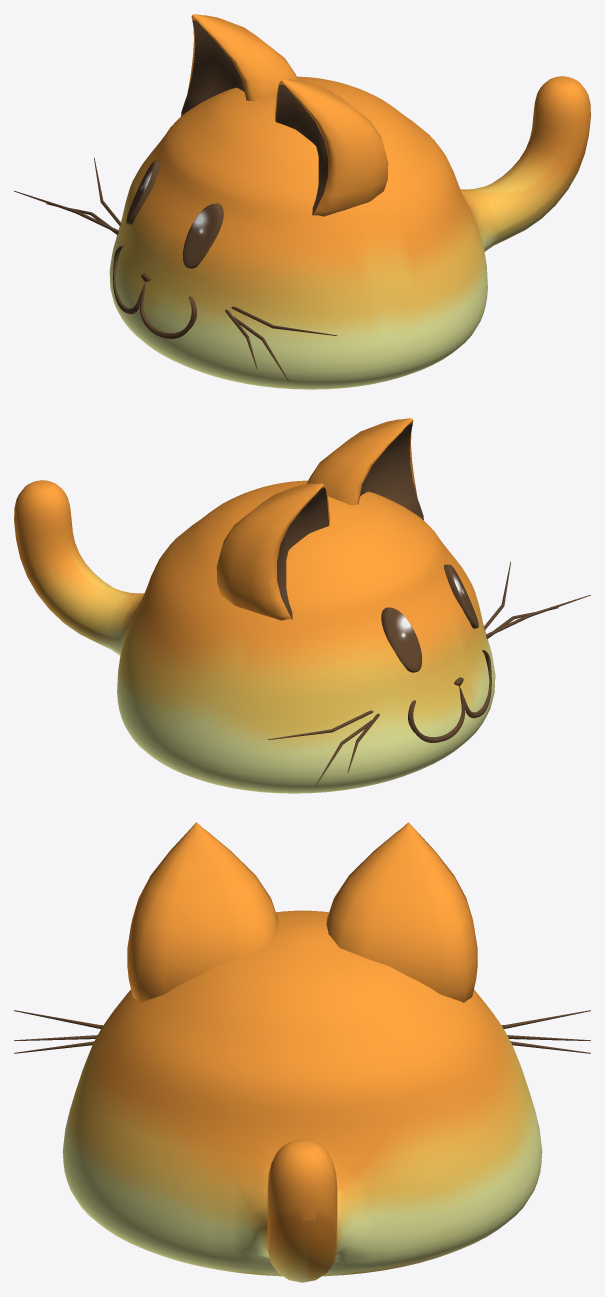
The model's file is PanGato.fbx.
The picture shows the model from 3 angles, top to bottom: view 1: azimuth 30°, elevation 25°; view 2: azimuth 150°, elevation 25°; view 3: azimuth 270°, elevation 25°; orthographic projection. The views are drawn at different scales.
Parts seen in each view (by area): view 1: PanGato, Orejas, ojos, Cilindro, boca; view 2: PanGato, Orejas, ojos, Cilindro, boca; view 3: PanGato, Orejas, Cilindro.
Part boxes in pixels (box(x1,y1,x2,y2)): PanGato: box(109, 76, 590, 389); Orejas: box(181, 14, 388, 216); ojos: box(126, 160, 223, 268); Cilindro: box(14, 157, 337, 381); boca: box(113, 246, 196, 338); PanGato: box(14, 480, 495, 793); Orejas: box(216, 418, 423, 620); ojos: box(381, 564, 478, 672); Cilindro: box(267, 561, 590, 785); boca: box(408, 650, 491, 742); PanGato: box(62, 910, 542, 1282); Orejas: box(127, 822, 477, 1002); Cilindro: box(14, 1010, 590, 1053).
Size of the model in its own units: 213 by 132 by 198.
